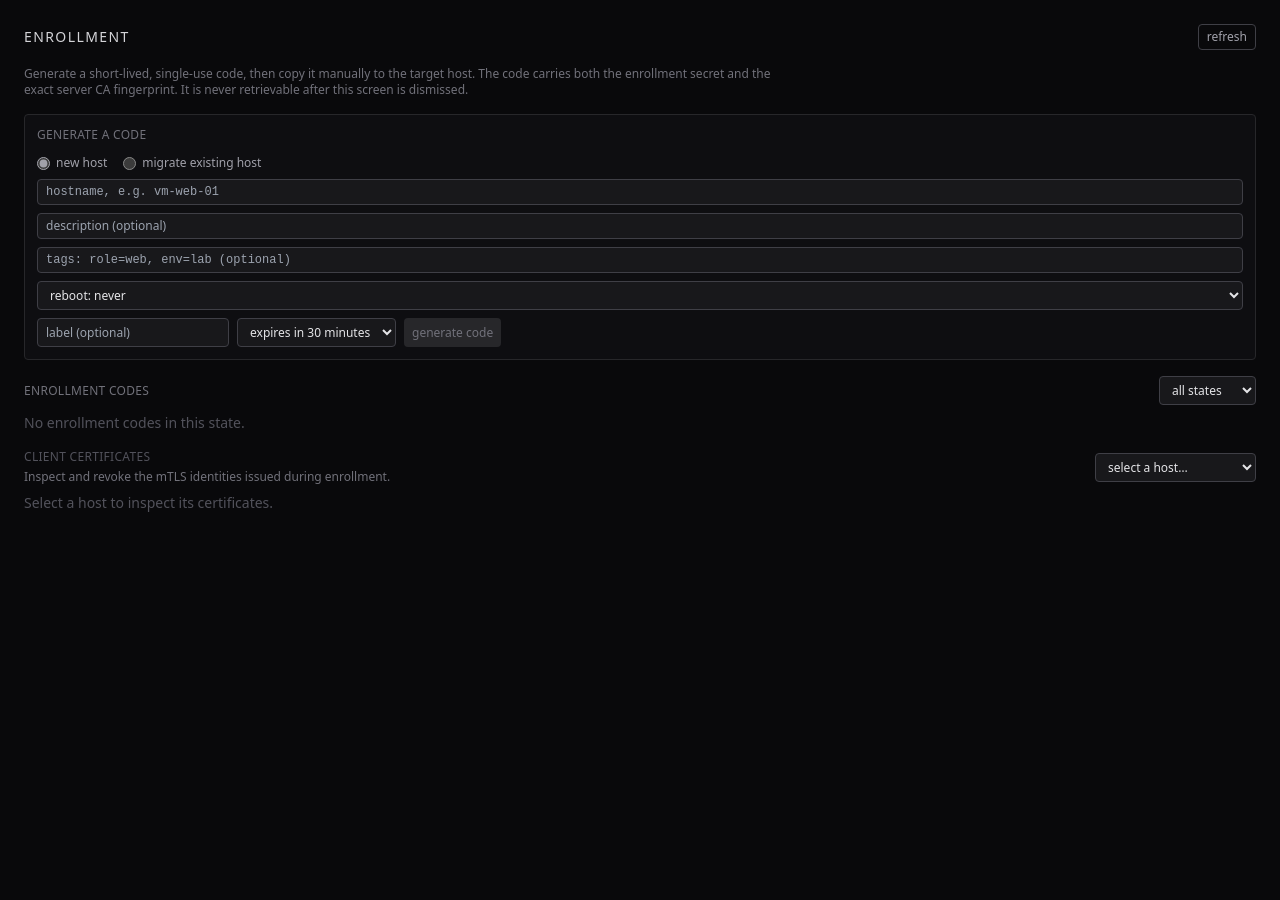
Scenario: EnrollmentView › creates a new-host code and shows it once with safe bootstrap instructions
expect the text "No enrollment codes in this state." is shown: met, box top-left (24, 413), bottom-right (245, 432)
In the field with placeholder "hostname, e.g. vm-web-01": (640, 192) top-left (37, 179), bottom-right (1243, 205), type "vm-new"
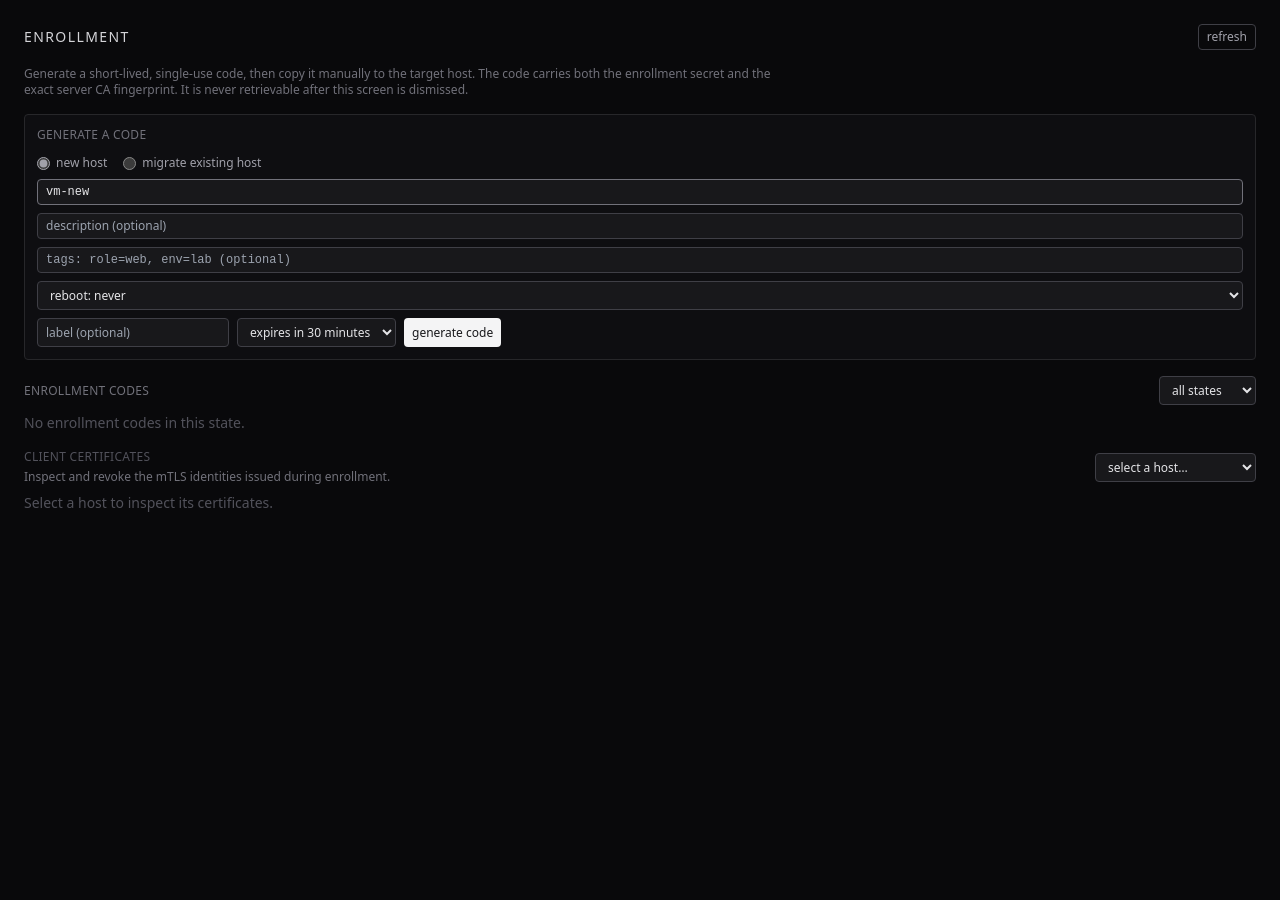
In the field named "Host tags": (640, 260) top-left (37, 247), bottom-right (1243, 273), type "role=web, env=lab"
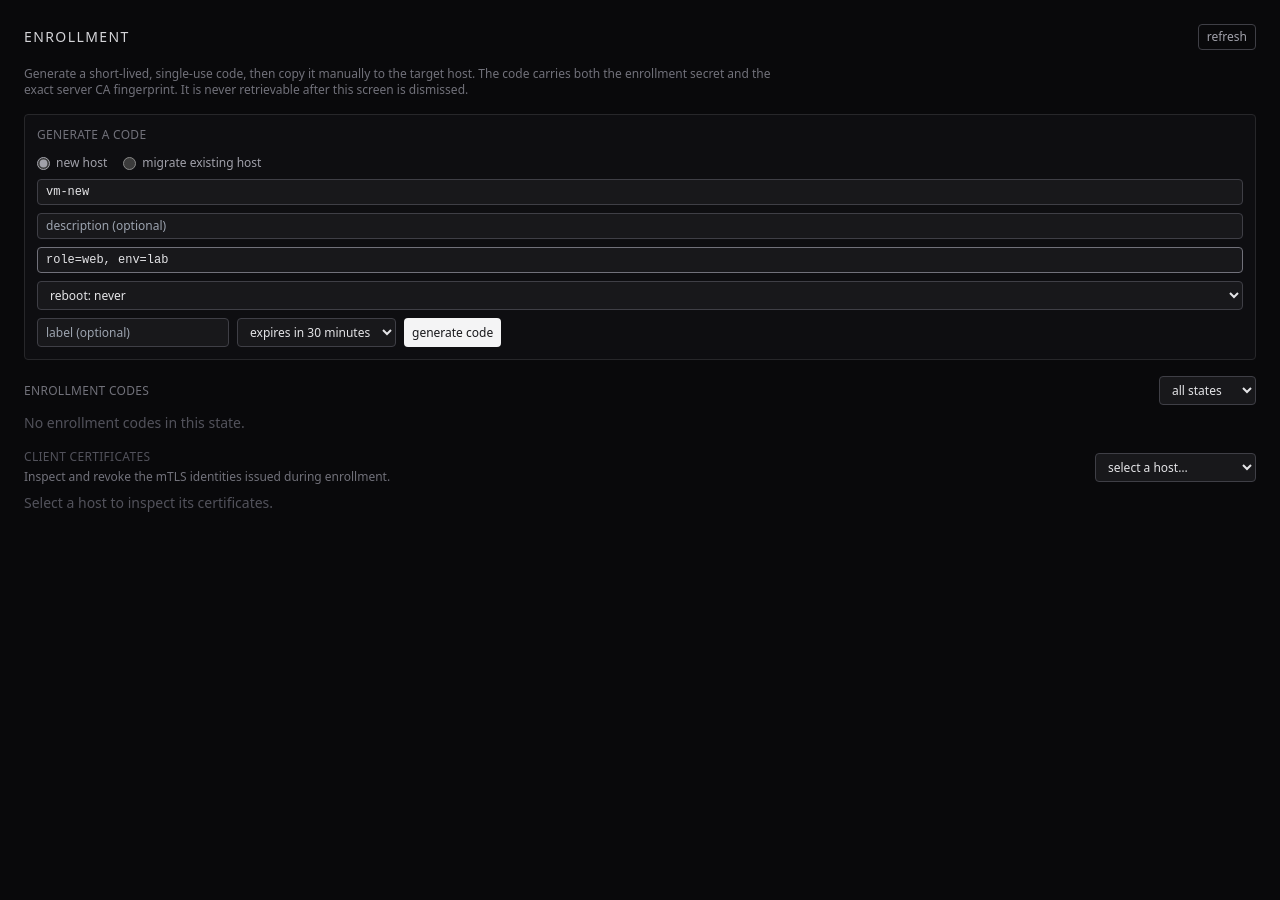
Select "reboot: prompt" in the dropdown named "Reboot policy": (640, 296) top-left (37, 281), bottom-right (1243, 310)
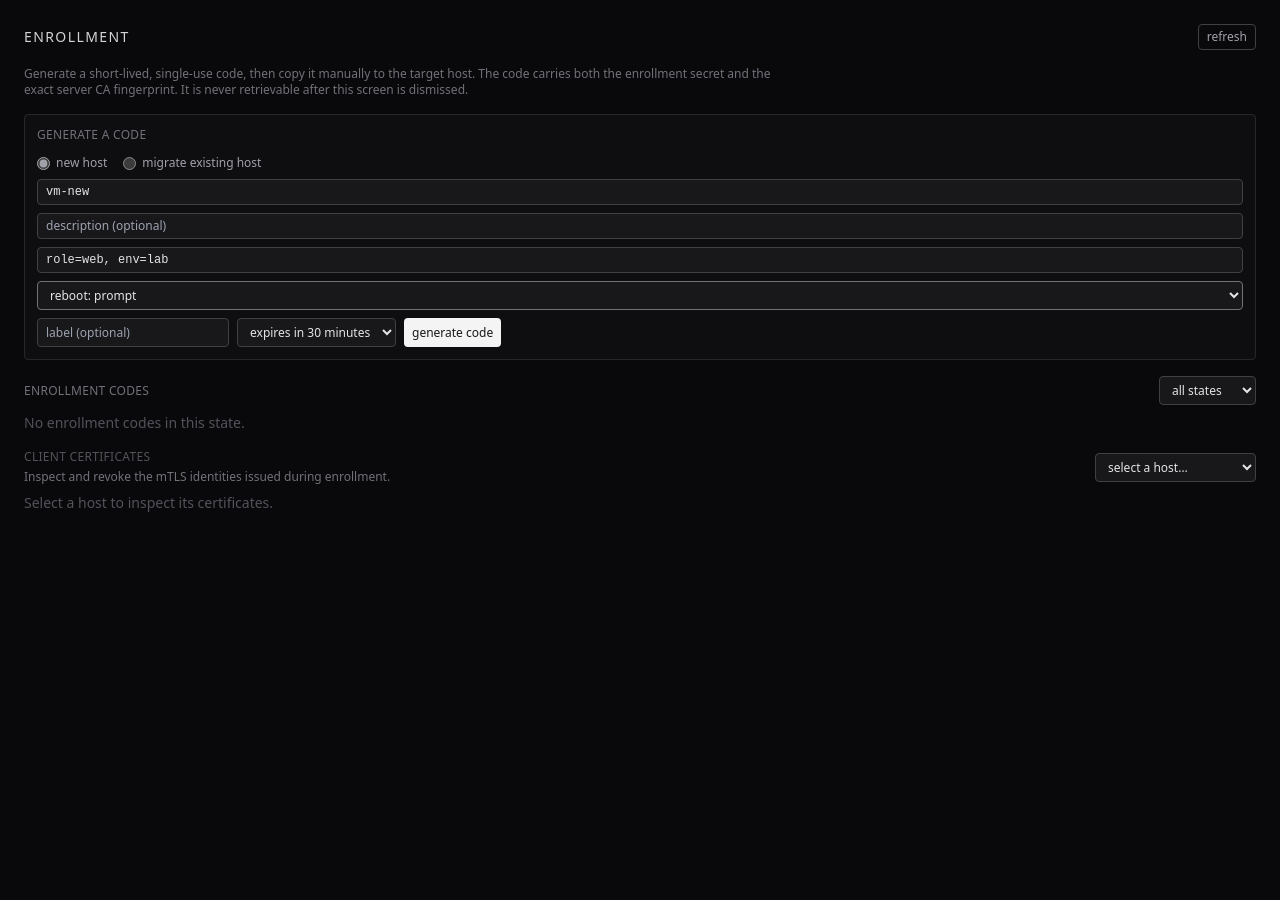
Click the button "generate code": (453, 332) top-left (404, 318), bottom-right (501, 347)
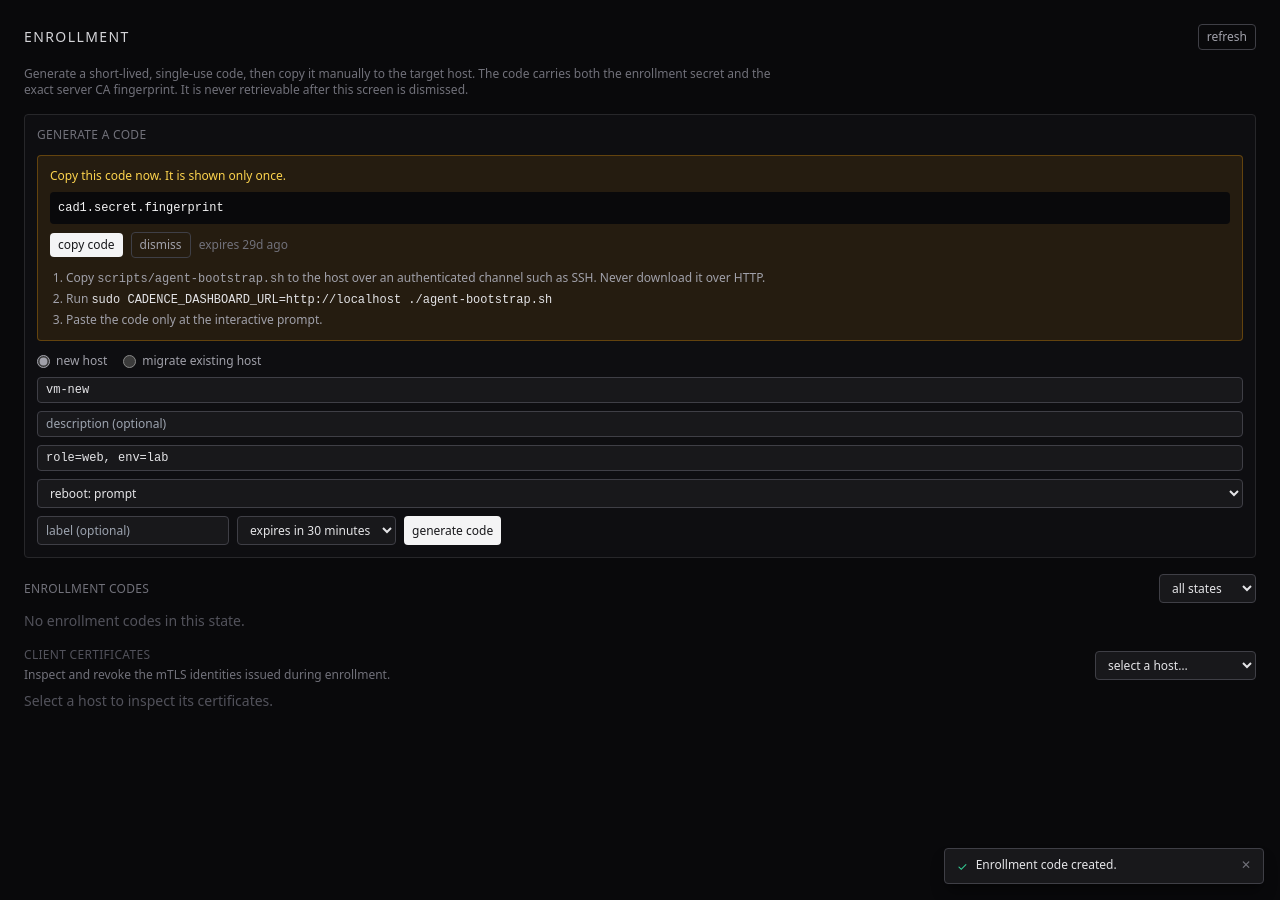
expect the text "cad1.secret.fingerprint" is shown: met, box top-left (50, 192), bottom-right (1230, 224)
expect the list item "Never download it over HTTP" is shown: met, box top-left (284, 269), bottom-right (765, 286)
Click the button "dismiss": (161, 245) top-left (131, 232), bottom-right (191, 258)
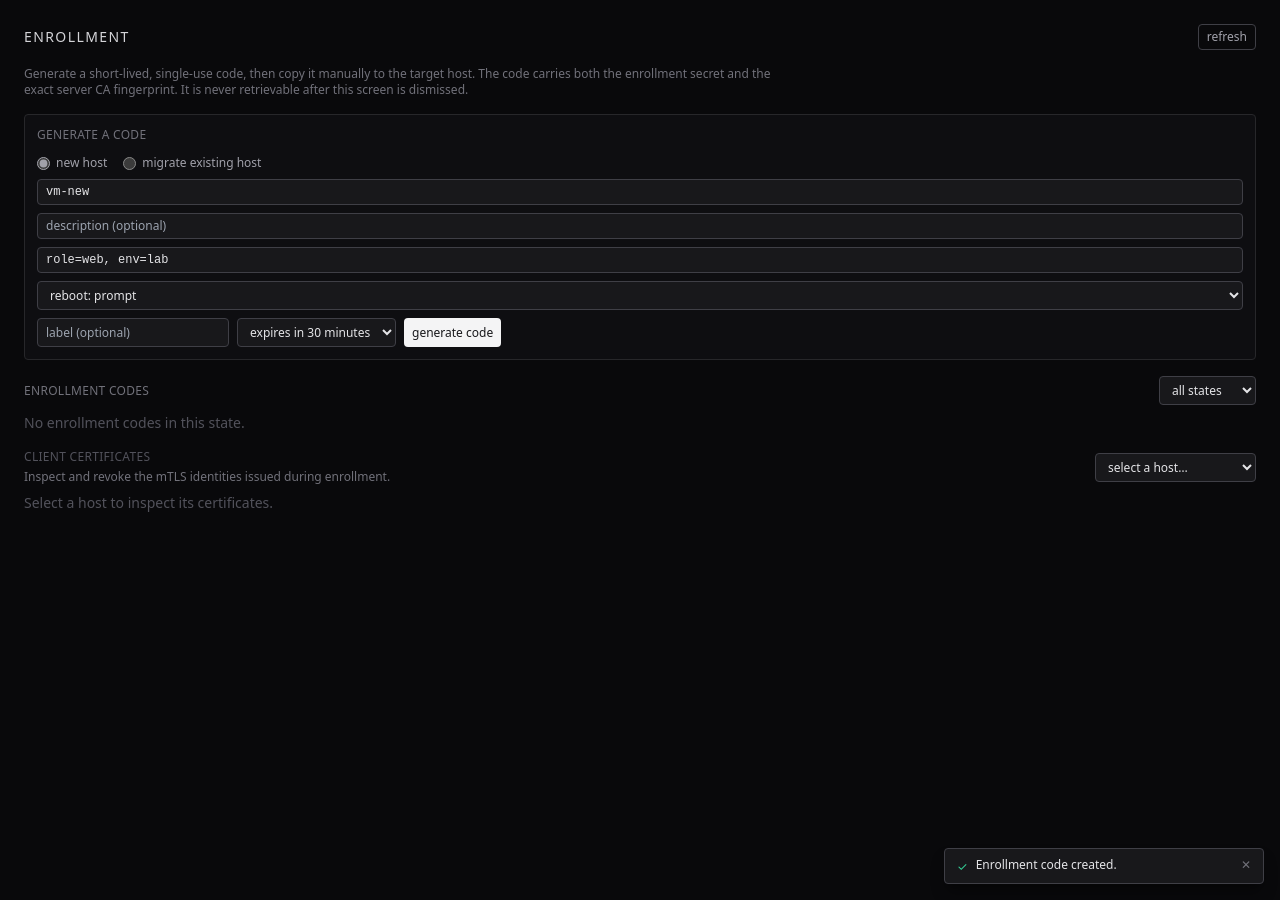
expect the text "cad1.secret.fingerprint" is gone: met
